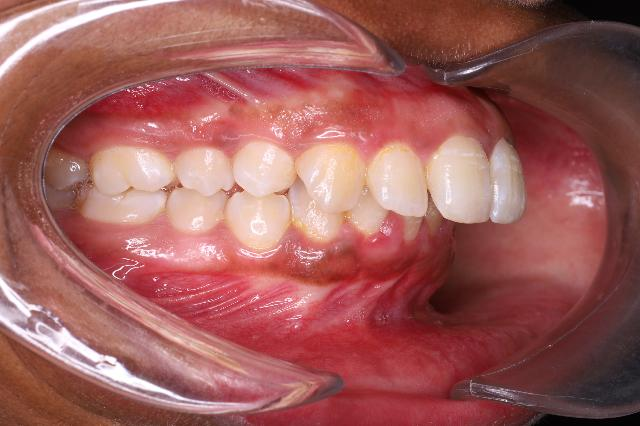canine class II 1/2: (224, 138, 370, 258)
molar class II 3/4: (75, 132, 175, 230)
